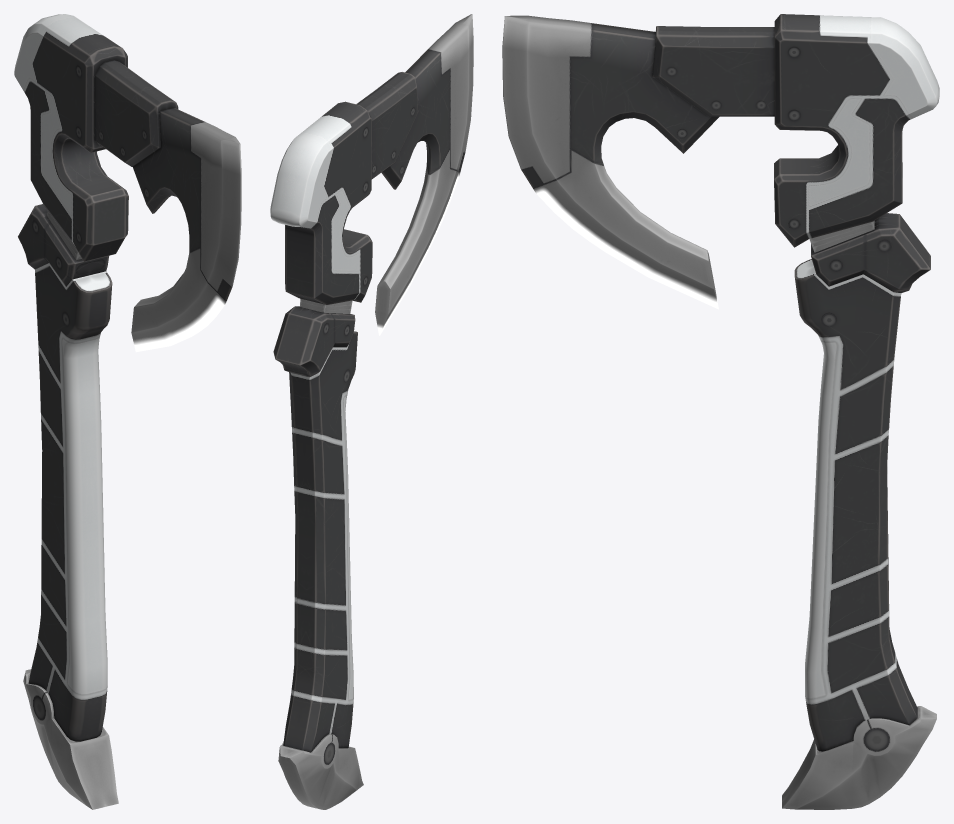
Rendered from MeleeAxe02.FBX.
The picture shows the model from 3 angles, left to right: view 1: azimuth 30°, elevation 25°; view 2: azimuth 150°, elevation 25°; view 3: azimuth 270°, elevation 25°; orthographic projection. The views are drawn at different scales.
Parts seen in each view (by area): view 1: MeleeAxe02; view 2: MeleeAxe02; view 3: MeleeAxe02.
Boxes of the visible parts, x1,y1,x2,y2 form: MeleeAxe02: (14,14,241,809); MeleeAxe02: (270,14,473,809); MeleeAxe02: (502,14,939,809).
Size of what is drawn, in the model's own units: 0.0311 by 0.5358 by 0.2695.
